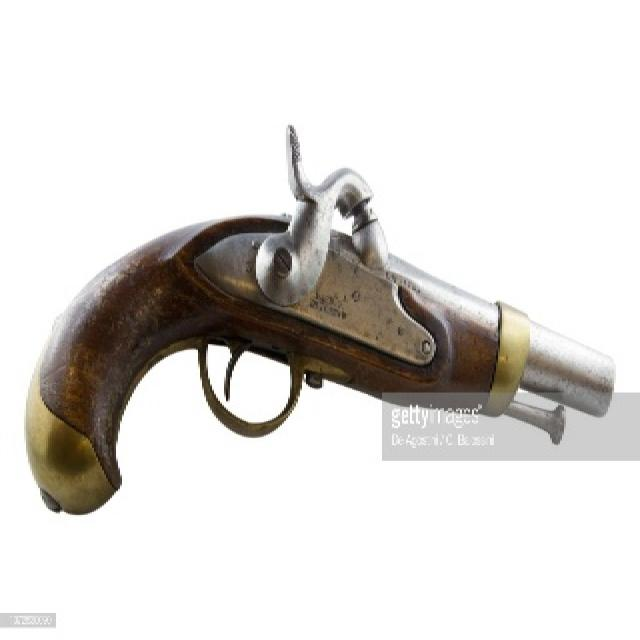handgun: (16, 122, 616, 506)
